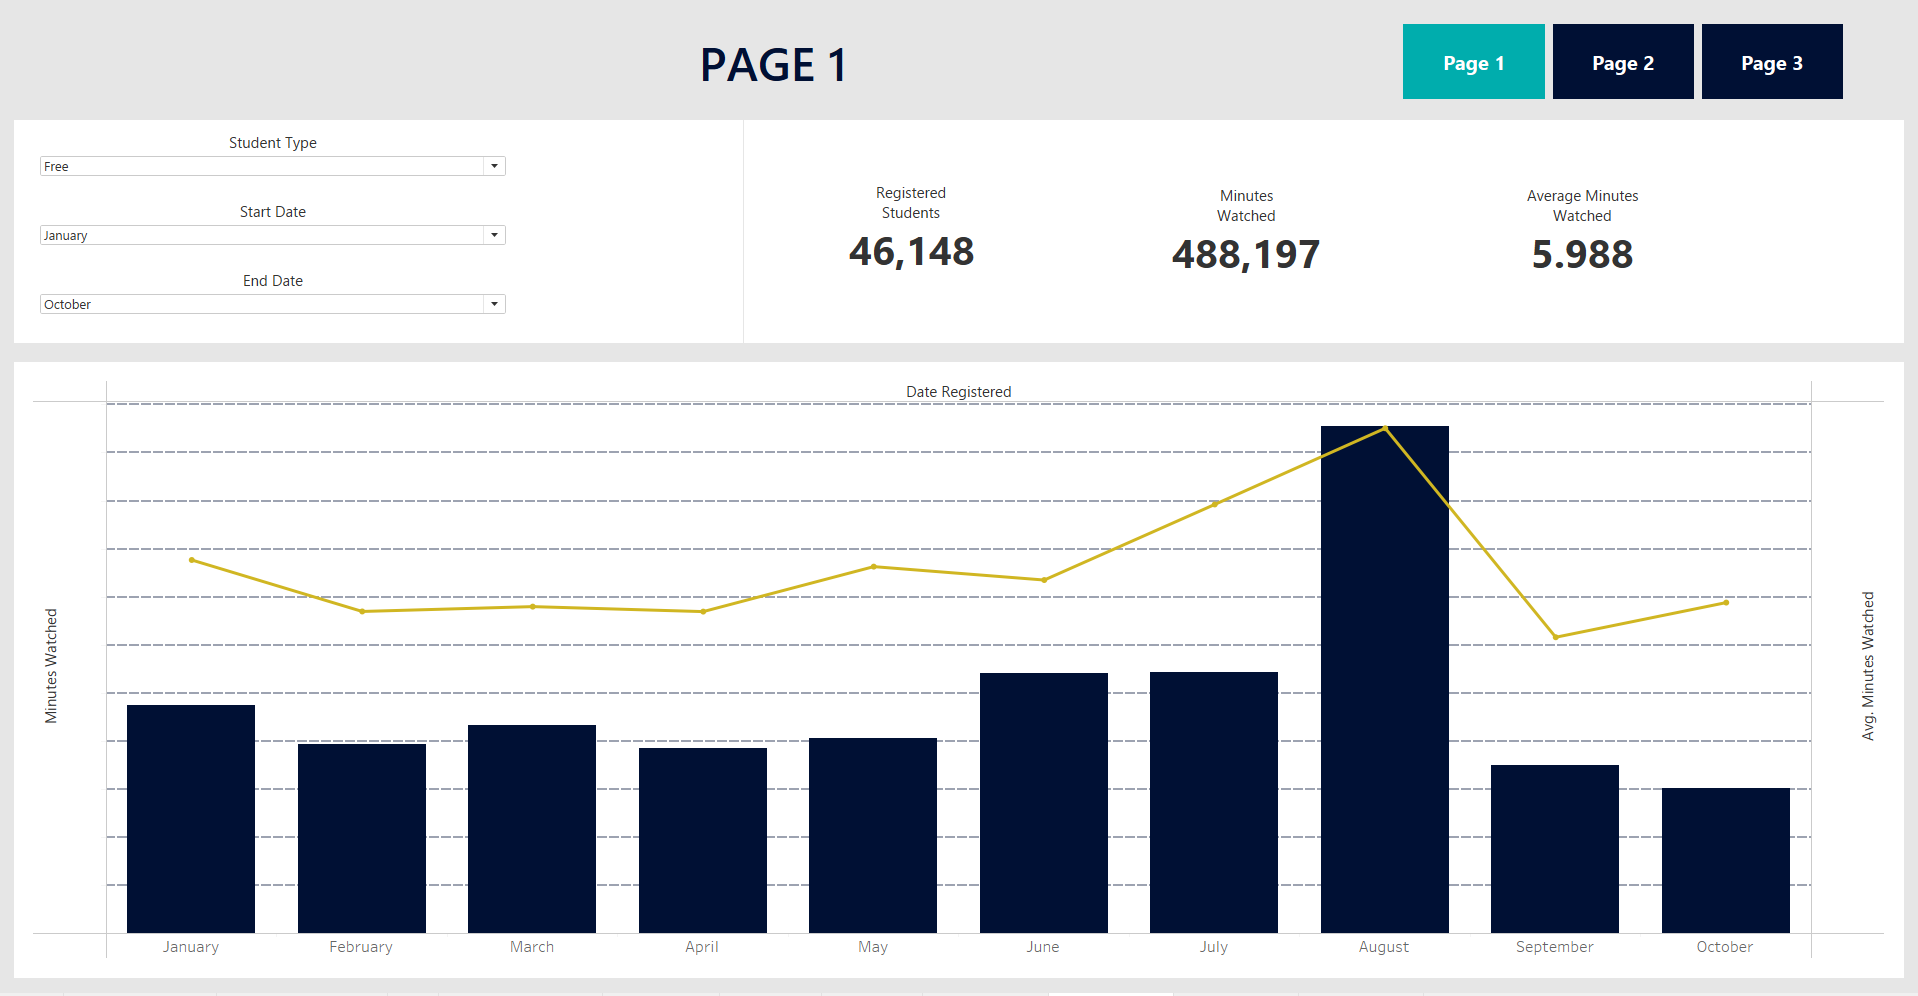

The dashboard page shown, as its layout file describes it:
{"tool":"tableau","page":{"name":"Dashboard 1","canvas":[1000,1000],"units":"permille","ordinal":0},"visuals":[{"type":"text","box":[343.1,15,120,93.6]},{"type":"dashboard-object","box":[729.2,20.1,78.1,83.6]},{"type":"dashboard-object","box":[807.3,20.1,77.6,83.6]},{"type":"dashboard-object","box":[884.9,20.1,77.6,83.6]},{"type":"worksheet","title":"KPI registered","mark":"Text","box":[387.9,120.6,174.8,225.2]},{"type":"worksheet","title":"KPI minutes","mark":"Automatic","box":[562.6,120.6,174.8,225.2]},{"type":"worksheet","title":"KPI average","mark":"Automatic","box":[737.4,120.6,174.8,225.2]},{"type":"parameter","param":"[Parameters].[Parameter 3]","box":[17.7,128.9,250,69.5]},{"type":"parameter","param":"[Parameters].[Parameter 4]","box":[17.7,198.4,250,69.5]},{"type":"parameter","param":"[Parameters].[Parameter 4 1]","box":[17.7,267.9,250,69.5]},{"type":"worksheet","title":"combo","mark":"Line","rows":["minutes_watched","minutes_watched"],"cols":["date_registered"],"box":[7.8,364.9,984.4,620]}]}

Visuals, with their boxes on the dashboard's canvas, which has no fixed pixel size, in thousandths of its width and height (x1, y1, x2, y2). These are canvas units, not pixel positions in the 1918x996 screenshot, which may show the page scaled, cropped or inside an application window:
text: 343, 15, 463, 109
dashboard-object: 729, 20, 807, 104
dashboard-object: 807, 20, 885, 104
dashboard-object: 885, 20, 962, 104
"KPI registered" worksheet (Text marks): 388, 121, 563, 346
"KPI minutes" worksheet: 563, 121, 737, 346
"KPI average" worksheet: 737, 121, 912, 346
parameter: 18, 129, 268, 198
parameter: 18, 198, 268, 268
parameter: 18, 268, 268, 337
"combo" worksheet (Line marks): 8, 365, 992, 985
